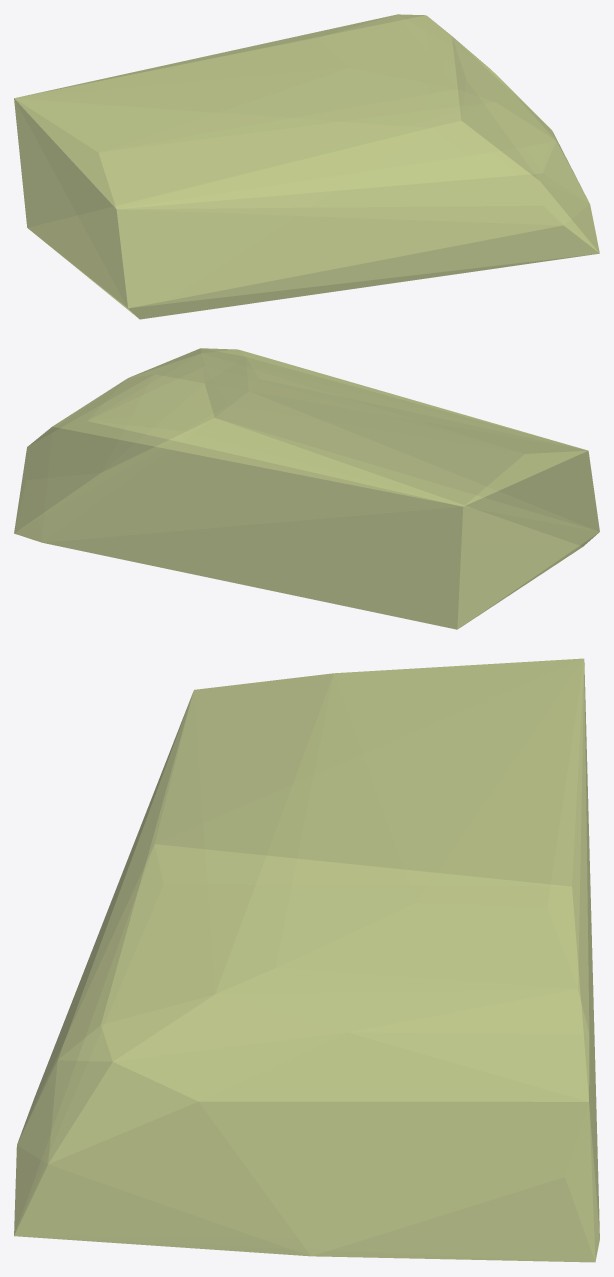
3 views of the same model, one above another, from view 1: azimuth 30°, elevation 25°; view 2: azimuth 150°, elevation 25°; view 3: azimuth 270°, elevation 25° (orthographic). The views are drawn at different scales.
Visible parts, largest first — view 1: Shape_IndexedFaceSet.002_Shape_IndexedFaceSet.3579; view 2: Shape_IndexedFaceSet.002_Shape_IndexedFaceSet.3579; view 3: Shape_IndexedFaceSet.002_Shape_IndexedFaceSet.3579.
Boxes of the visible parts, bbox=[...] form: Shape_IndexedFaceSet.002_Shape_IndexedFaceSet.3579: bbox=[14, 14, 599, 319]; Shape_IndexedFaceSet.002_Shape_IndexedFaceSet.3579: bbox=[14, 348, 599, 629]; Shape_IndexedFaceSet.002_Shape_IndexedFaceSet.3579: bbox=[14, 658, 599, 1262].
Size of the model in its own units: 0.531 by 0.1489 by 0.342.
